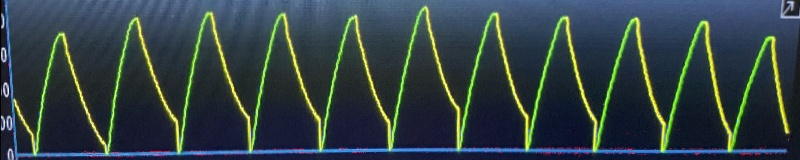leakage: (26, 1, 738, 155)
